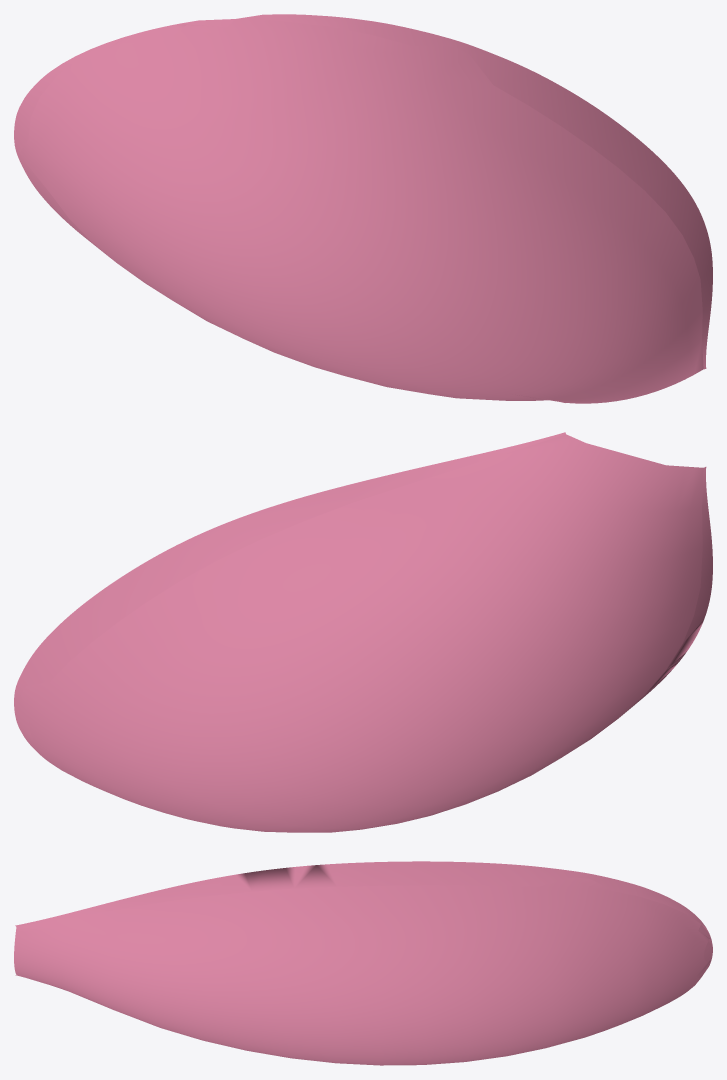
The model's file is spoon_mopsig_inside.glb.
3 views of the same model, one above another, from view 1: azimuth 30°, elevation 25°; view 2: azimuth 150°, elevation 25°; view 3: azimuth 270°, elevation 25° (orthographic). The views are drawn at different scales.
Parts seen in each view (by area): view 1: Mesh_1.001; view 2: Mesh_1.001; view 3: Mesh_1.001.
Boxes of the visible parts, left/top/right/bottom form: Mesh_1.001: left=14, top=14, right=712, bottom=403; Mesh_1.001: left=14, top=432, right=712, bottom=832; Mesh_1.001: left=14, top=861, right=712, bottom=1065.
Bounding box in the file's own units: 0.0415 × 0.0094 × 0.0675.
